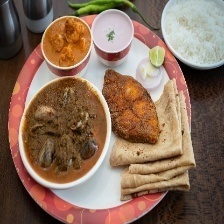rice: (160, 0, 224, 68)
